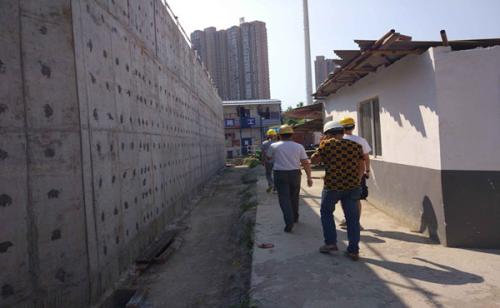boots: (319, 243, 338, 252), (345, 249, 359, 260), (284, 222, 294, 231)
hard-hat: (323, 121, 344, 133), (338, 116, 355, 128), (277, 124, 295, 135), (266, 127, 277, 135)
person: (310, 119, 367, 260), (265, 124, 313, 231), (337, 116, 372, 231), (261, 128, 279, 193)
